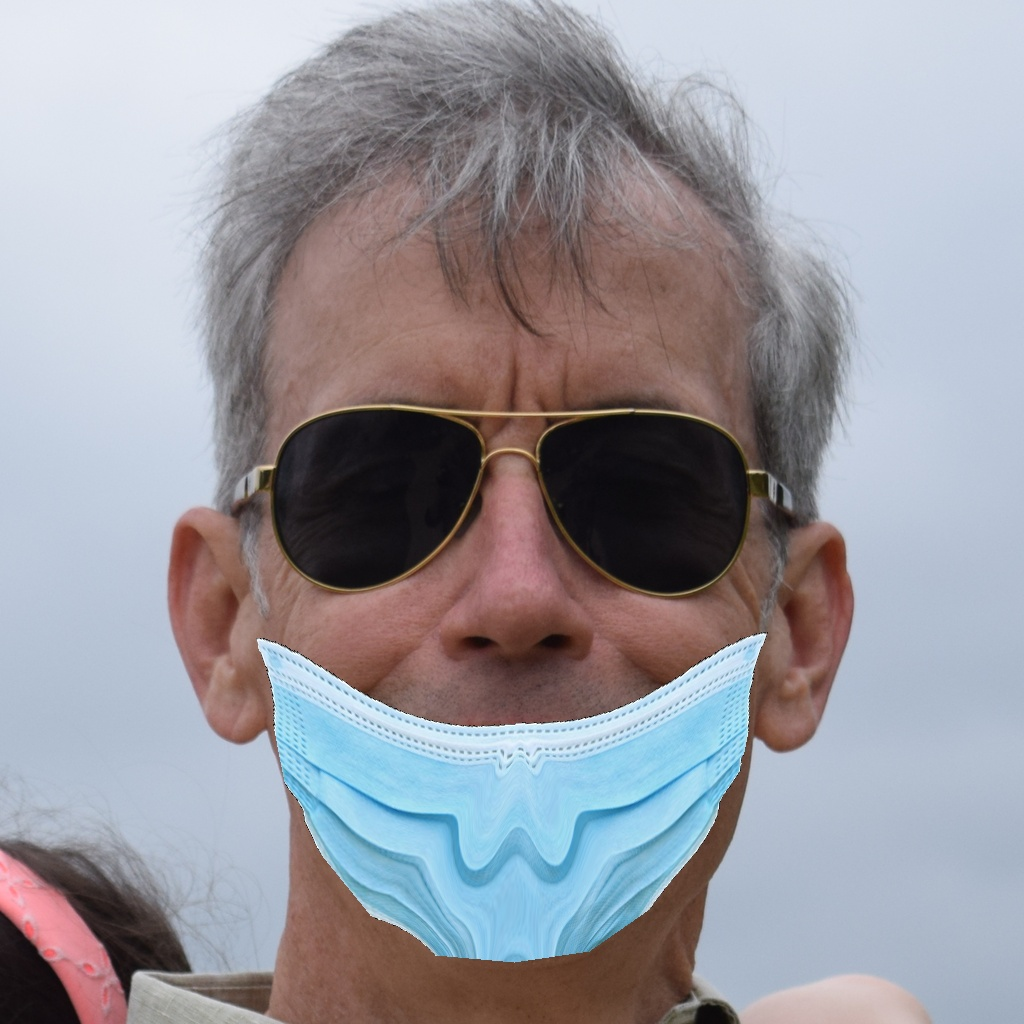mascarilla_mal_puesta: (207, 363, 799, 1003)
